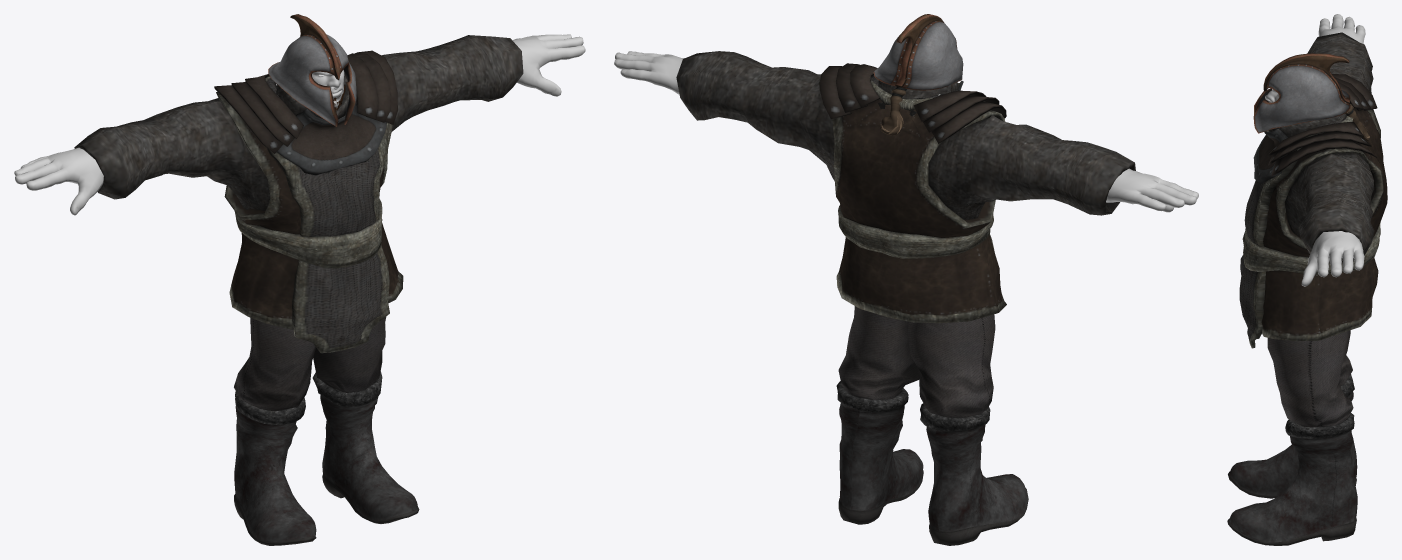
File: large medevil armoured character playable npc.obj
3 renders of one model, left to right at view 1: azimuth 30°, elevation 25°; view 2: azimuth 150°, elevation 25°; view 3: azimuth 270°, elevation 25°, orthographic. The views are drawn at different scales.
Visible parts, largest first — view 1: Tops, Shoes, Bottoms, Body, Hats; view 2: Tops, Shoes, Bottoms, Hats, Body, Hair; view 3: Tops, Shoes, Bottoms, Hats, Body, Hair.
Part boxes in pixels (x1,y1,x2,y2): Tops: (74,35,523,353); Shoes: (234,371,419,545); Bottoms: (234,317,386,411); Body: (14,34,585,215); Hats: (268,14,356,126); Tops: (676,51,1135,323); Shoes: (836,381,1028,545); Bottoms: (838,306,995,417); Hats: (873,14,963,90); Body: (614,51,1198,212); Hair: (880,77,908,135); Tops: (1239,32,1387,348); Shoes: (1227,374,1357,545); Bottoms: (1267,330,1353,427); Hats: (1253,53,1350,133); Body: (1265,14,1365,286); Hair: (1343,94,1369,141).
Size of the model in its own units: 255 by 210 by 66.38.
